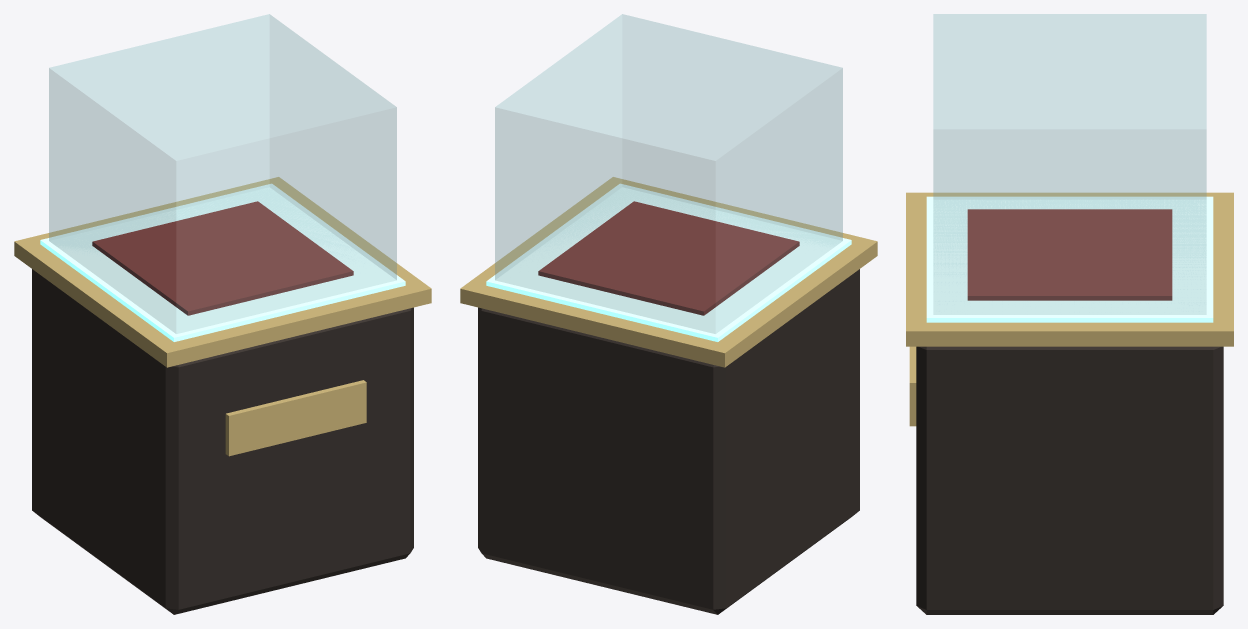
Rendered from ex_case.glb.
3 views of the same model, side by side, from view 1: azimuth 30°, elevation 25°; view 2: azimuth 150°, elevation 25°; view 3: azimuth 270°, elevation 25° (orthographic). The views are drawn at different scales.
Parts seen in each view (by area): view 1: ex_case; view 2: ex_case; view 3: ex_case.
Part boxes in pixels (box(x1,y1,x2,y2)): ex_case: box(14, 14, 431, 614); ex_case: box(460, 14, 877, 614); ex_case: box(906, 14, 1233, 614).
Bounding box in the file's own units: 0.96 × 1.56 × 0.96.
